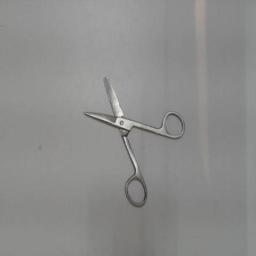Dressing Scissors: (78, 66, 190, 212)
